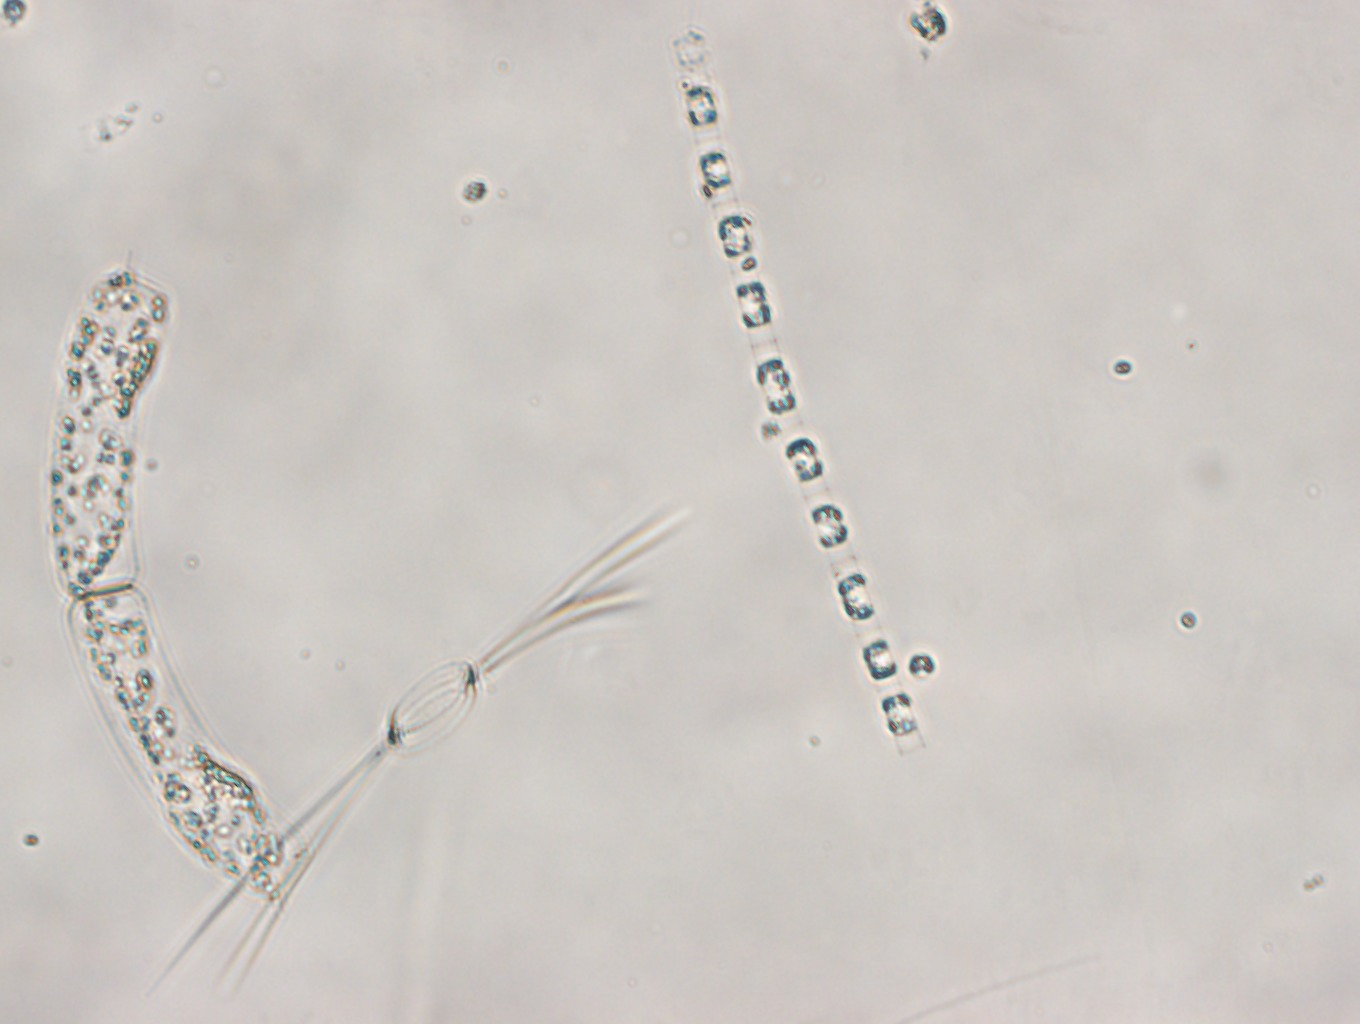chaetoceros: (151, 509, 679, 996)
skeletonema: (669, 29, 924, 758)
